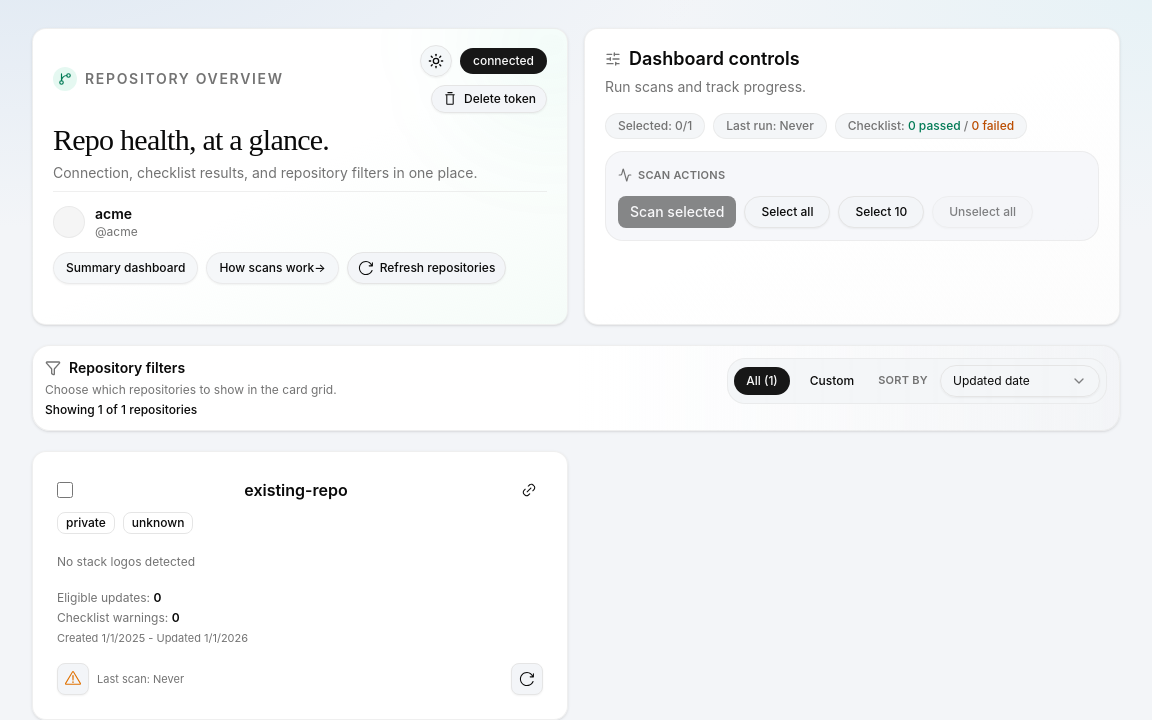
Test: RepoHealthSetup › refreshes the repository list from GitHub on demand
The image size is (1152, 720).
expect the text "existing-repo" is shown: met, box [244,478,348,502]
expect the text "new-repo" is not shown: met
Step 1. Click the button "Refresh repositories" → (427,268), box [347,252,506,284]
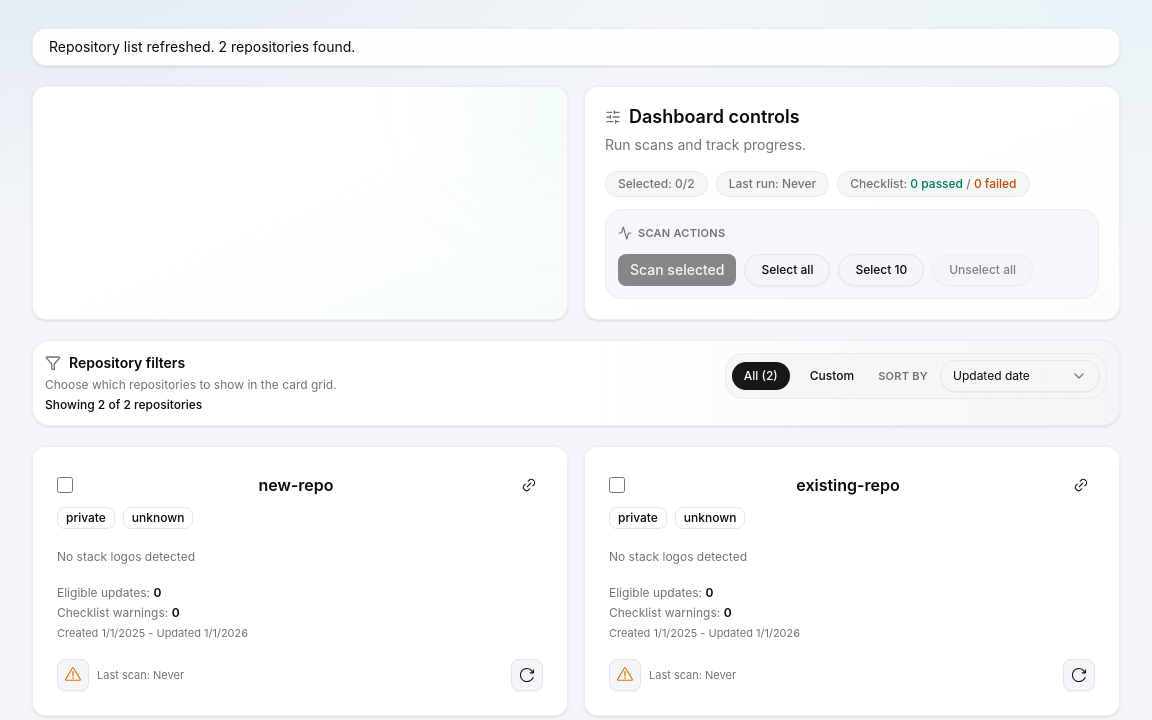
expect the text "new-repo" is shown: met, box [258,473,334,497]
expect the text "Repository list refreshed. 2 repositories found." is shown: met, box [32,28,1120,66]
